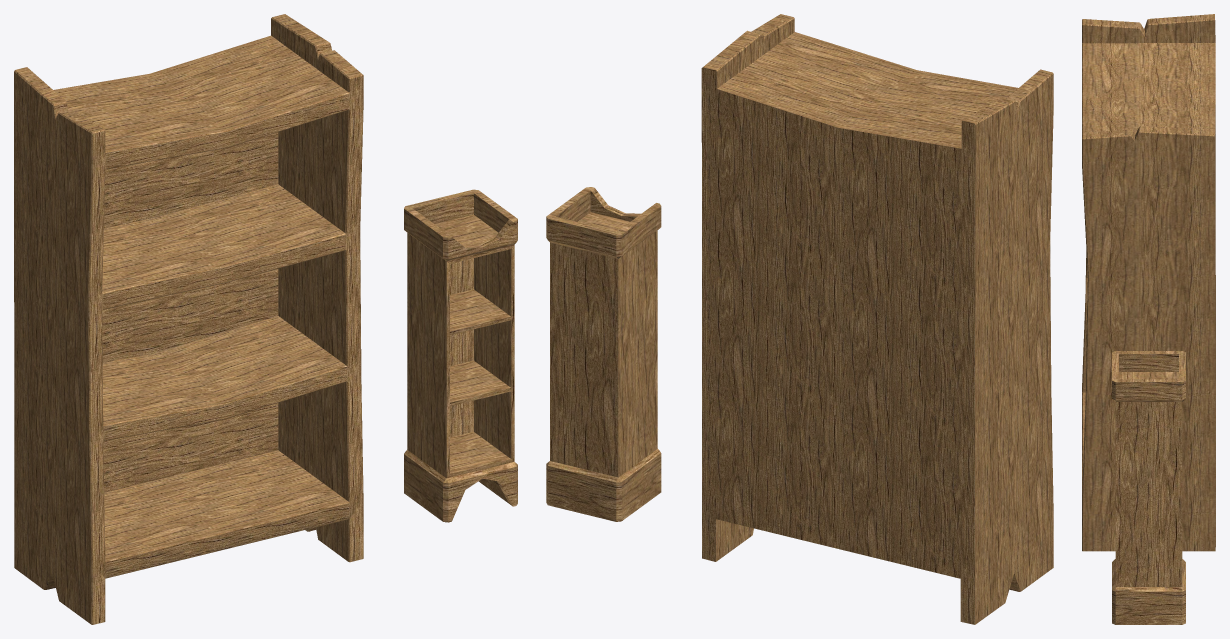
Rendered from bookshelves.lod1.glb.
3 views of the same model, side by side, from view 1: azimuth 30°, elevation 25°; view 2: azimuth 150°, elevation 25°; view 3: azimuth 270°, elevation 25° (orthographic). The views are drawn at different scales.
Visible parts, largest first — view 1: Object_4; view 2: Object_4; view 3: Object_4.
Boxes of the visible parts, bbox=[...] form: Object_4: bbox=[14, 14, 517, 624]; Object_4: bbox=[546, 14, 1053, 624]; Object_4: bbox=[1082, 14, 1215, 624].
Size of the model in its own units: 2.43 by 2.6 by 0.7412.
Materials: 1 (1 with a texture image).
